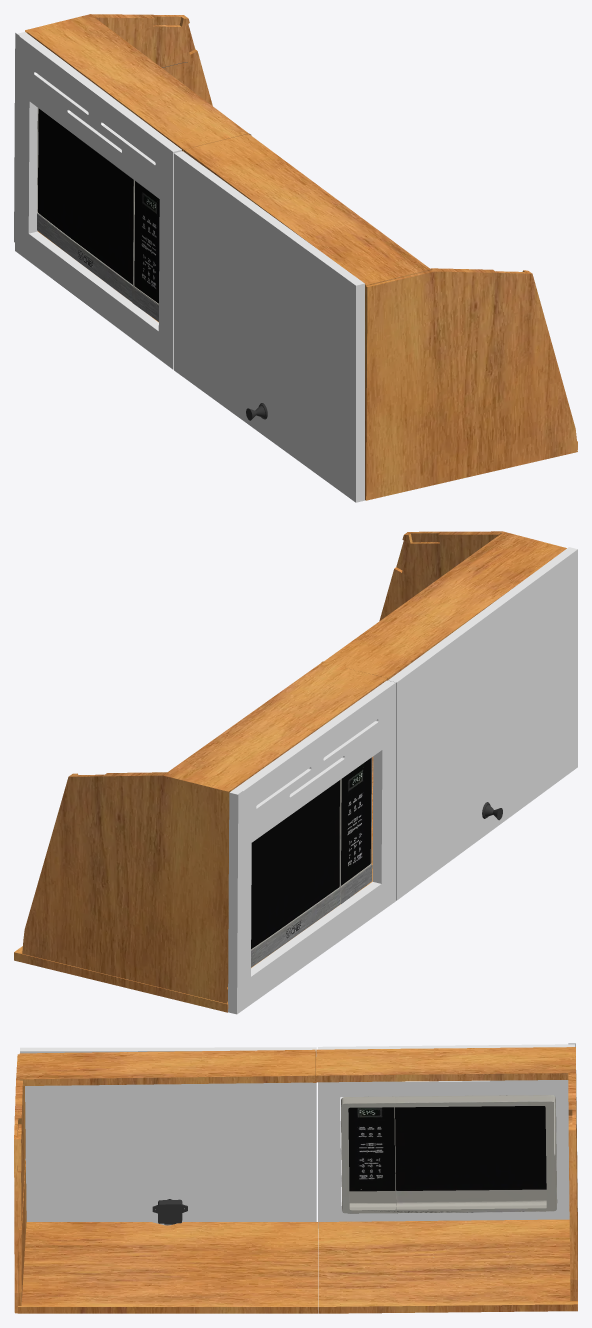
The model's file is microwave-cabinet.glb.
The picture shows the model from 3 angles, top to bottom: view 1: azimuth 30°, elevation 25°; view 2: azimuth 150°, elevation 25°; view 3: azimuth 270°, elevation 25°; orthographic projection. The views are drawn at different scales.
Parts seen in each view (by area): view 1: Document.004; view 2: Document.004; view 3: Document.004.
Part boxes in pixels (x1,y1,x2,y2): Document.004: [14, 14, 577, 502]; Document.004: [14, 531, 577, 1014]; Document.004: [14, 1043, 577, 1313].
Size of the model in its own units: 0.4469 by 0.4036 by 1.13.
Materials: 4 (2 with a texture image).
